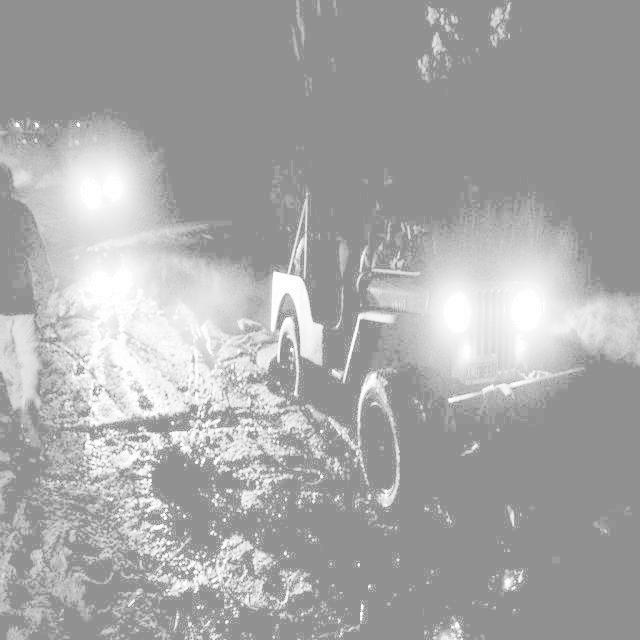Car: (253, 174, 596, 519), (16, 132, 146, 238)
